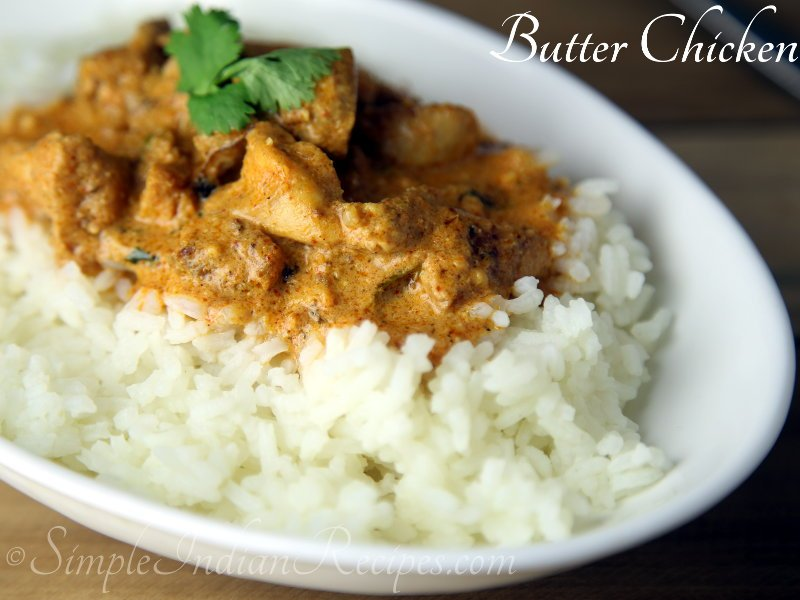butter_chicken: (3, 17, 581, 340)
